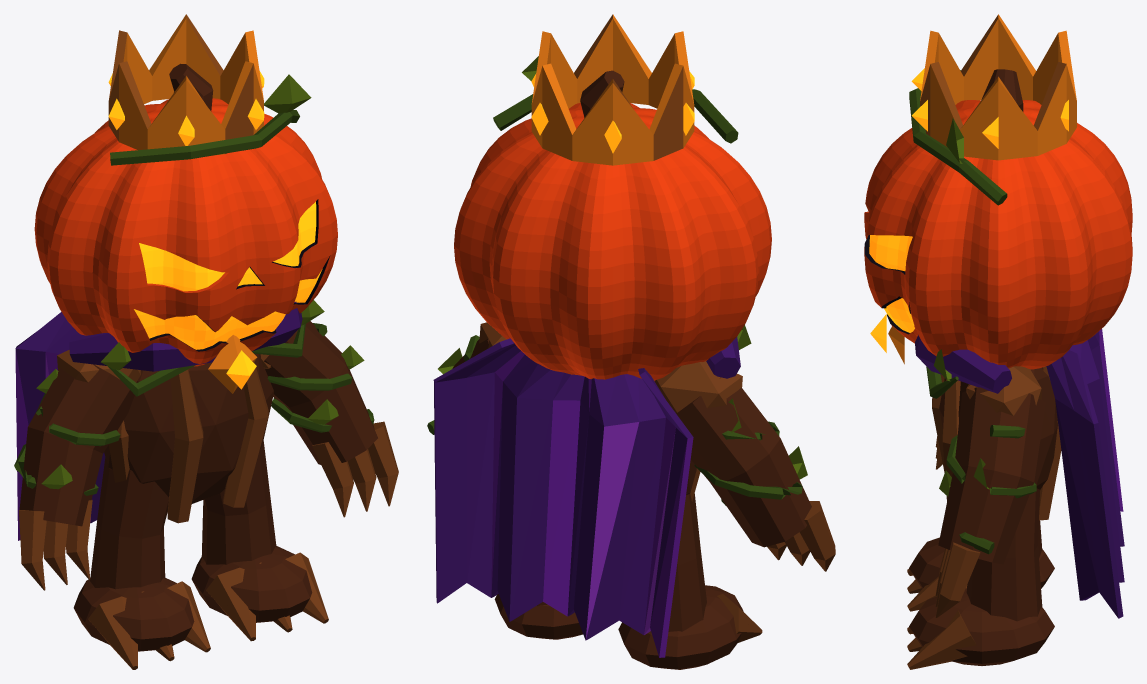
The model's file is PumpkinKing.glb.
The picture shows the model from 3 angles, left to right: view 1: azimuth 30°, elevation 25°; view 2: azimuth 150°, elevation 25°; view 3: azimuth 270°, elevation 25°; orthographic projection. The views are drawn at different scales.
Visible parts, largest first — view 1: Carved ten-lobed pumpkin, Six point gold crown, Twisted trunk, Branch arm-1, Tree leg-1, Branch arm1, Root foot-1, Tree leg1, Root foot1, Royal tattered cape, Trunk bark ridge4, Jagged grin recessed glowing liner (+26 smaller); view 2: Carved ten-lobed pumpkin, Royal tattered cape, Six point gold crown, Branch arm-1, Root foot-1, Tree leg-1, Bark shoulder-1, Root foot1, Crown vine, Claw root finger-10, Arm wrapping vine-1, Purple folded collar-1 (+2 smaller); view 3: Carved ten-lobed pumpkin, Six point gold crown, Royal tattered cape, Branch arm1, Root foot1, Tree leg1, Purple folded collar1, Crown vine, Twisted trunk, Foot root12, Claw root finger12, Arm wrapping vine1 (+11 smaller).
Part boxes in pixels (x1=…): Carved ten-lobed pumpkin: x1=34, y1=98, x2=337, y2=366; Six point gold crown: x1=108, y1=14, x2=263, y2=155; Twisted trunk: x1=104, y1=353, x2=273, y2=503; Branch arm-1: x1=19, y1=364, x2=134, y2=526; Tree leg-1: x1=90, y1=457, x2=168, y2=589; Branch arm1: x1=264, y1=321, x2=377, y2=464; Root foot-1: x1=73, y1=578, x2=194, y2=651; Tree leg1: x1=201, y1=440, x2=276, y2=564; Root foot1: x1=191, y1=546, x2=312, y2=622; Royal tattered cape: x1=15, y1=312, x2=105, y2=540; Trunk bark ridge4: x1=167, y1=369, x2=203, y2=523; Jagged grin recessed glowing liner: x1=134, y1=269, x2=322, y2=349; Carved ten-lobed pumpkin: x1=454, y1=102, x2=771, y2=380; Royal tattered cape: x1=433, y1=338, x2=693, y2=657; Six point gold crown: x1=531, y1=14, x2=694, y2=165; Branch arm-1: x1=676, y1=377, x2=811, y2=547; Root foot-1: x1=618, y1=585, x2=743, y2=669; Tree leg-1: x1=668, y1=493, x2=706, y2=631; Bark shoulder-1: x1=655, y1=361, x2=742, y2=413; Root foot1: x1=494, y1=594, x2=582, y2=639; Crown vine: x1=493, y1=89, x2=738, y2=143; Claw root finger-10: x1=799, y1=501, x2=835, y2=571; Arm wrapping vine-1: x1=694, y1=421, x2=802, y2=505; Purple folded collar-1: x1=706, y1=336, x2=740, y2=378; Carved ten-lobed pumpkin: x1=864, y1=100, x2=1132, y2=369; Six point gold crown: x1=920, y1=14, x2=1076, y2=160; Royal tattered cape: x1=1046, y1=329, x2=1124, y2=618; Branch arm1: x1=938, y1=387, x2=1045, y2=564; Root foot1: x1=909, y1=588, x2=1054, y2=665; Tree leg1: x1=966, y1=488, x2=1042, y2=621; Purple folded collar1: x1=915, y1=335, x2=1011, y2=393; Crown vine: x1=909, y1=70, x2=1007, y2=205; Twisted trunk: x1=939, y1=367, x2=1057, y2=489; Foot root12: x1=907, y1=610, x2=976, y2=669; Claw root finger12: x1=935, y1=542, x2=980, y2=617; Arm wrapping vine1: x1=946, y1=425, x2=1036, y2=554.
Size of the model in its own units: 3.2 by 4.65 by 1.95.
